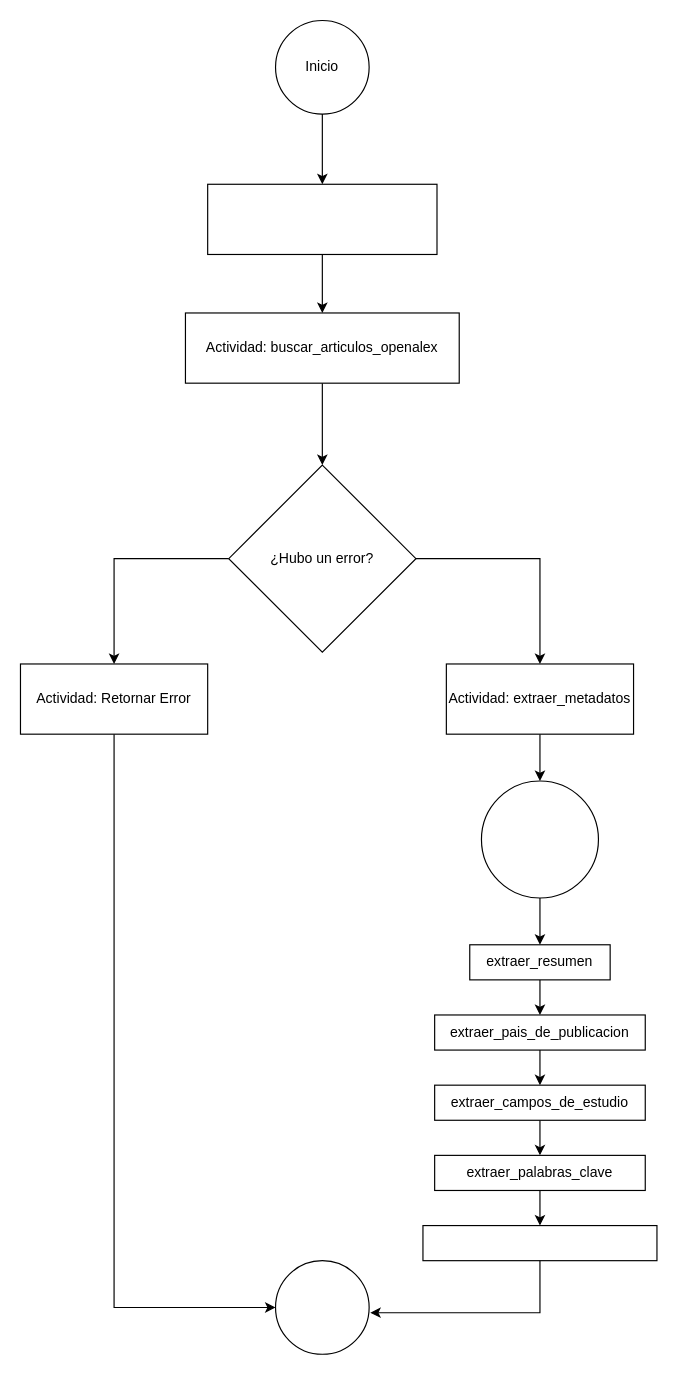
This 677x1375 diagram has some shape labels left out. Here are the shapes that lost their labels. From the top down, the centre of each, then its label:
At [322,218]: "Llamar a consultar_openalex".
At [539,839]: "Inicia Bucle: Para cada articulo".
At [539,1242]: "extraer_datos_autores_intituciones".
At [321,1307]: "Fin".
